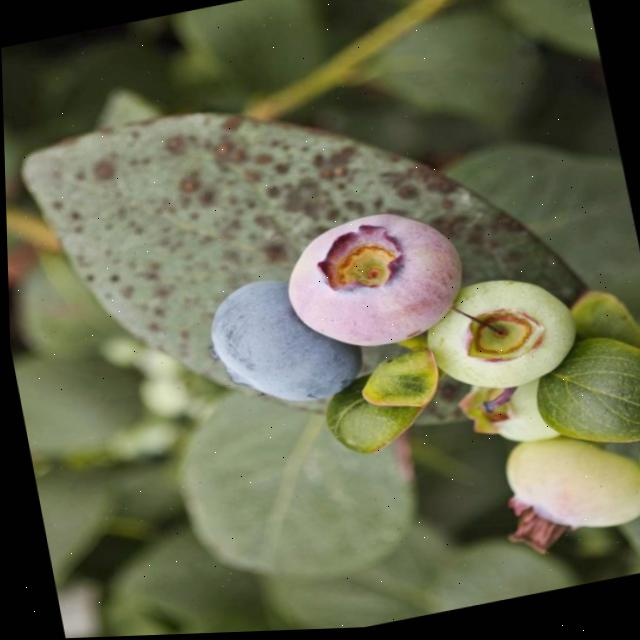RipeBlueBerry: (183, 255, 378, 431)
Semi-RipeBlueBerry: (260, 184, 487, 379)
UnripeBlueBerry: (402, 253, 599, 421), (487, 418, 640, 560)
